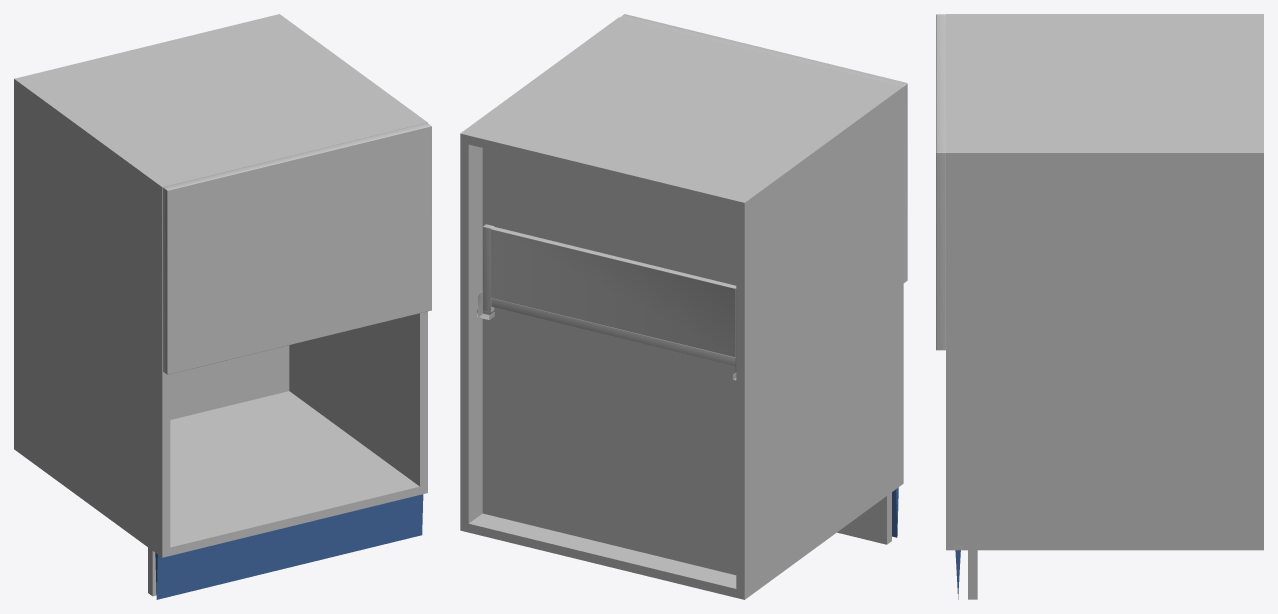
The picture shows the model from 3 angles, left to right: view 1: azimuth 30°, elevation 25°; view 2: azimuth 150°, elevation 25°; view 3: azimuth 270°, elevation 25°; orthographic projection. The views are drawn at different scales.
Visible parts, largest first — view 1: Laterala_ST_geo0, Tandem_Front_geo0, Fund1_geo0, Fund_geo0, Laterala_DR_geo0, Rece_geo0, Spate_geo0; view 2: Spate_geo0, Laterala_ST_geo0, Fund1_geo0, Tandem_BMotion_Spate_geo0, Laterala_DR_geo0, Fund_geo0, Tandem_Front_geo0, Tandem_BMotion_Fund_geo0, Plinta_geo0, Tandem_BMotion_Dreapta_geo0; view 3: Laterala_DR_geo0, Fund1_geo0, Tandem_Front_geo0, Plinta_geo0.
Part boxes in pixels (bbox=[...]): Laterala_ST_geo0: bbox=[14, 87, 170, 549]; Tandem_Front_geo0: bbox=[163, 123, 431, 374]; Fund1_geo0: bbox=[14, 14, 427, 195]; Fund_geo0: bbox=[14, 391, 419, 557]; Laterala_DR_geo0: bbox=[289, 311, 427, 494]; Rece_geo0: bbox=[155, 494, 423, 599]; Spate_geo0: bbox=[170, 345, 289, 419]; Spate_geo0: bbox=[482, 148, 736, 575]; Laterala_ST_geo0: bbox=[736, 96, 903, 590]; Fund1_geo0: bbox=[460, 17, 903, 211]; Tandem_BMotion_Spate_geo0: bbox=[491, 226, 736, 357]; Laterala_DR_geo0: bbox=[460, 142, 482, 532]; Fund_geo0: bbox=[468, 475, 903, 599]; Tandem_Front_geo0: bbox=[620, 14, 907, 282]; Tandem_BMotion_Fund_geo0: bbox=[491, 298, 735, 366]; Plinta_geo0: bbox=[837, 492, 891, 544]; Tandem_BMotion_Dreapta_geo0: bbox=[483, 224, 494, 312]; Laterala_DR_geo0: bbox=[946, 162, 1263, 550]; Fund1_geo0: bbox=[946, 14, 1263, 161]; Tandem_Front_geo0: bbox=[936, 14, 945, 350]; Plinta_geo0: bbox=[968, 550, 977, 599].
Bounding box in the file's own units: 60 × 59.8 × 90.
